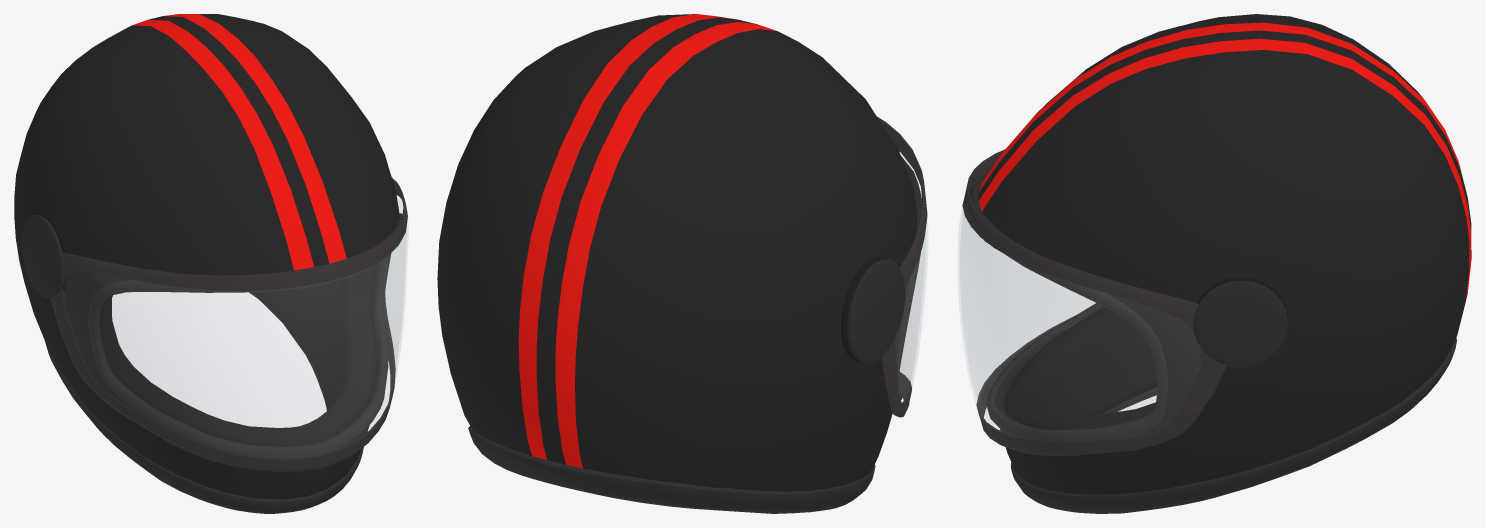
Rendered from Helmet2.glb.
3 renders of one model, left to right at view 1: azimuth 30°, elevation 25°; view 2: azimuth 150°, elevation 25°; view 3: azimuth 270°, elevation 25°, orthographic. The views are drawn at different scales.
Visible parts, largest first — view 1: Base.001, Class.001; view 2: Base.001, Class.001; view 3: Base.001, Class.001.
Boxes of the visible parts, x1=… form: Base.001: x1=14, y1=14, x2=402, y2=513; Class.001: x1=50, y1=178, x2=407, y2=471; Base.001: x1=437, y1=14, x2=921, y2=513; Class.001: x1=877, y1=116, x2=927, y2=417; Base.001: x1=969, y1=14, x2=1471, y2=513; Class.001: x1=958, y1=149, x2=1226, y2=455.
Bounding box in the file's own units: 0.6296 × 0.7243 × 0.7529.
2 materials, 1 textured.
